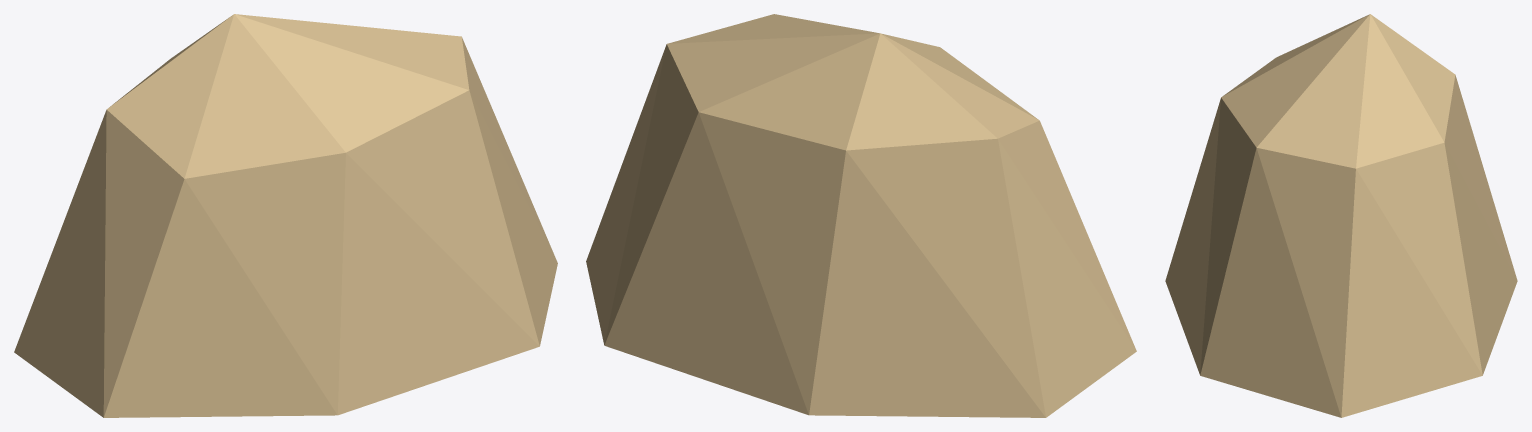
The picture shows the model from 3 angles, left to right: view 1: azimuth 30°, elevation 25°; view 2: azimuth 150°, elevation 25°; view 3: azimuth 270°, elevation 25°; orthographic projection. The views are drawn at different scales.
Visible parts, largest first — view 1: 区域散石_Card.001; view 2: 区域散石_Card.001; view 3: 区域散石_Card.001.
Part boxes in pixels (x1,y1,x2,y2): 区域散石_Card.001: (14, 14, 557, 417); 区域散石_Card.001: (586, 14, 1136, 417); 区域散石_Card.001: (1165, 14, 1517, 417).
Bounding box in the file's own units: 0.4182 × 0.25 × 0.2925.
